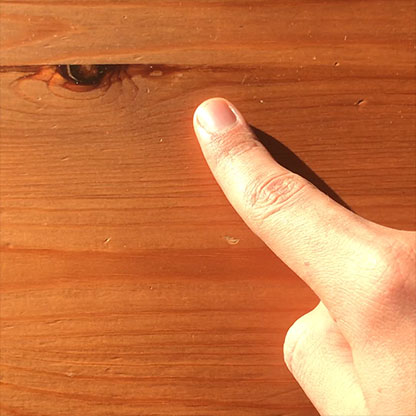fingertip: (187, 89, 250, 149)
